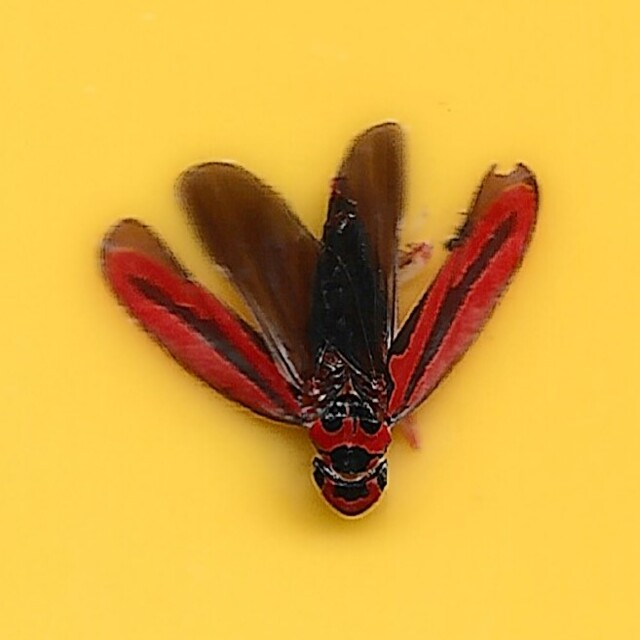Hemiptera: (97, 119, 543, 521)
